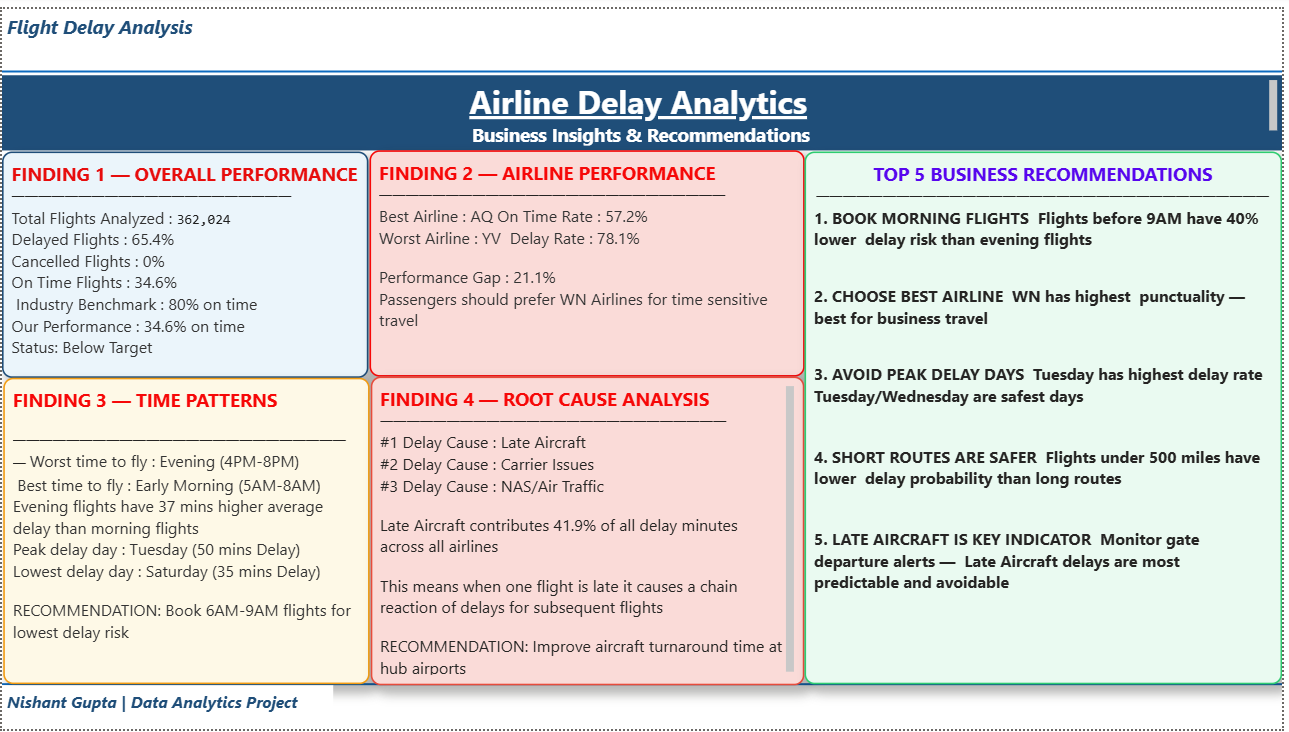

This screenshot's page, from the dashboard's own definition file:
{"tool":"powerbi","page":{"name":"Business Recommendation","canvas":[1280,720],"ordinal":4},"visuals":[{"type":"shape","box":[0,56.2,1280,12.5],"z":0},{"type":"shape","box":[0,668.6,1280,12.9],"z":1000},{"type":"textbox","box":[0,66.2,1280,75],"z":3000},{"type":"textbox","box":[0,142.5,366.2,226.2],"z":4000},{"type":"textbox","box":[367.5,141.2,435,226.2],"z":5000},{"type":"textbox","box":[1.2,368.8,366.2,306.2],"z":6000},{"type":"textbox","box":[368.8,367.5,433.8,308.8],"z":7000},{"type":"textbox","box":[802.5,142.5,477.5,532.5],"z":8000},{"type":"textbox","box":[0,676.2,331.2,43.8],"z":9001},{"type":"textbox","box":[0,0,300,52.5],"z":9002}]}

Visuals, with their boxes in screenshot pixels (x1, y1, x2, y2), scaled from the page's 1280x720 canvas onto the 1289x732 screenshot:
shape: [x1=0, y1=57, x2=1288, y2=70]
shape: [x1=0, y1=680, x2=1288, y2=693]
textbox: [x1=0, y1=67, x2=1288, y2=144]
textbox: [x1=0, y1=145, x2=369, y2=375]
textbox: [x1=370, y1=144, x2=808, y2=374]
textbox: [x1=1, y1=375, x2=370, y2=686]
textbox: [x1=371, y1=374, x2=808, y2=688]
textbox: [x1=808, y1=145, x2=1288, y2=686]
textbox: [x1=0, y1=687, x2=334, y2=731]
textbox: [x1=0, y1=0, x2=302, y2=53]
